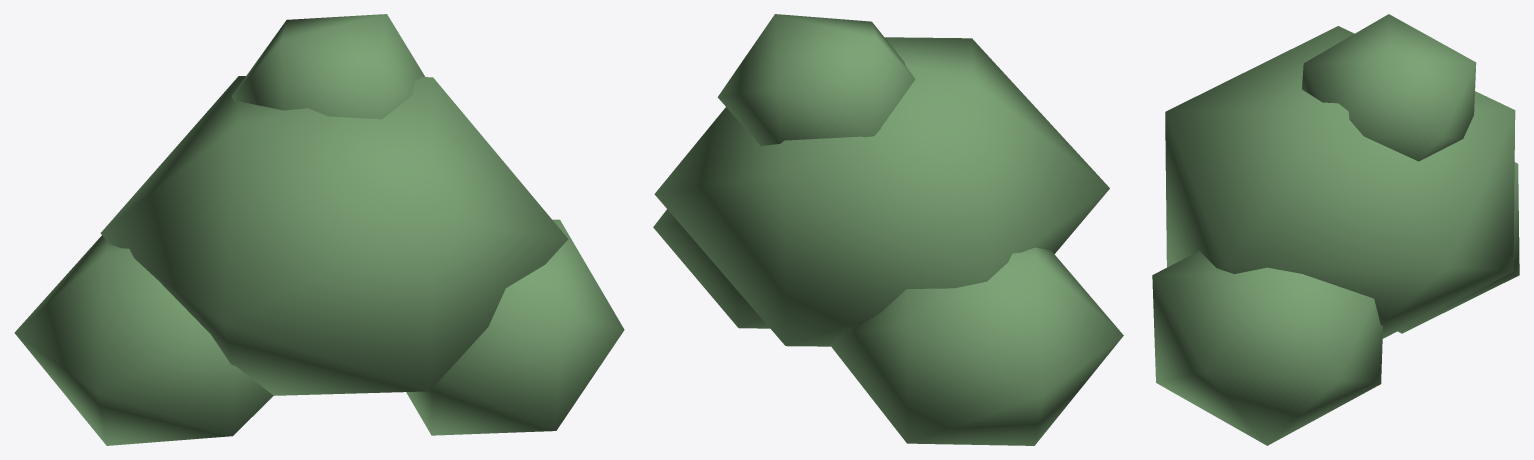
File: TreeCanopy.gltf
3 renders of one model, left to right at view 1: azimuth 30°, elevation 25°; view 2: azimuth 150°, elevation 25°; view 3: azimuth 270°, elevation 25°, orthographic. The views are drawn at different scales.
Visible parts, largest first — view 1: TreeCanopy; view 2: TreeCanopy; view 3: TreeCanopy.
Boxes of the visible parts, x1,y1,x2,y2 form: TreeCanopy: (14, 14, 624, 445); TreeCanopy: (653, 14, 1123, 445); TreeCanopy: (1152, 14, 1519, 445).
Size of the model in its own units: 2.68 by 1.99 by 1.96.
